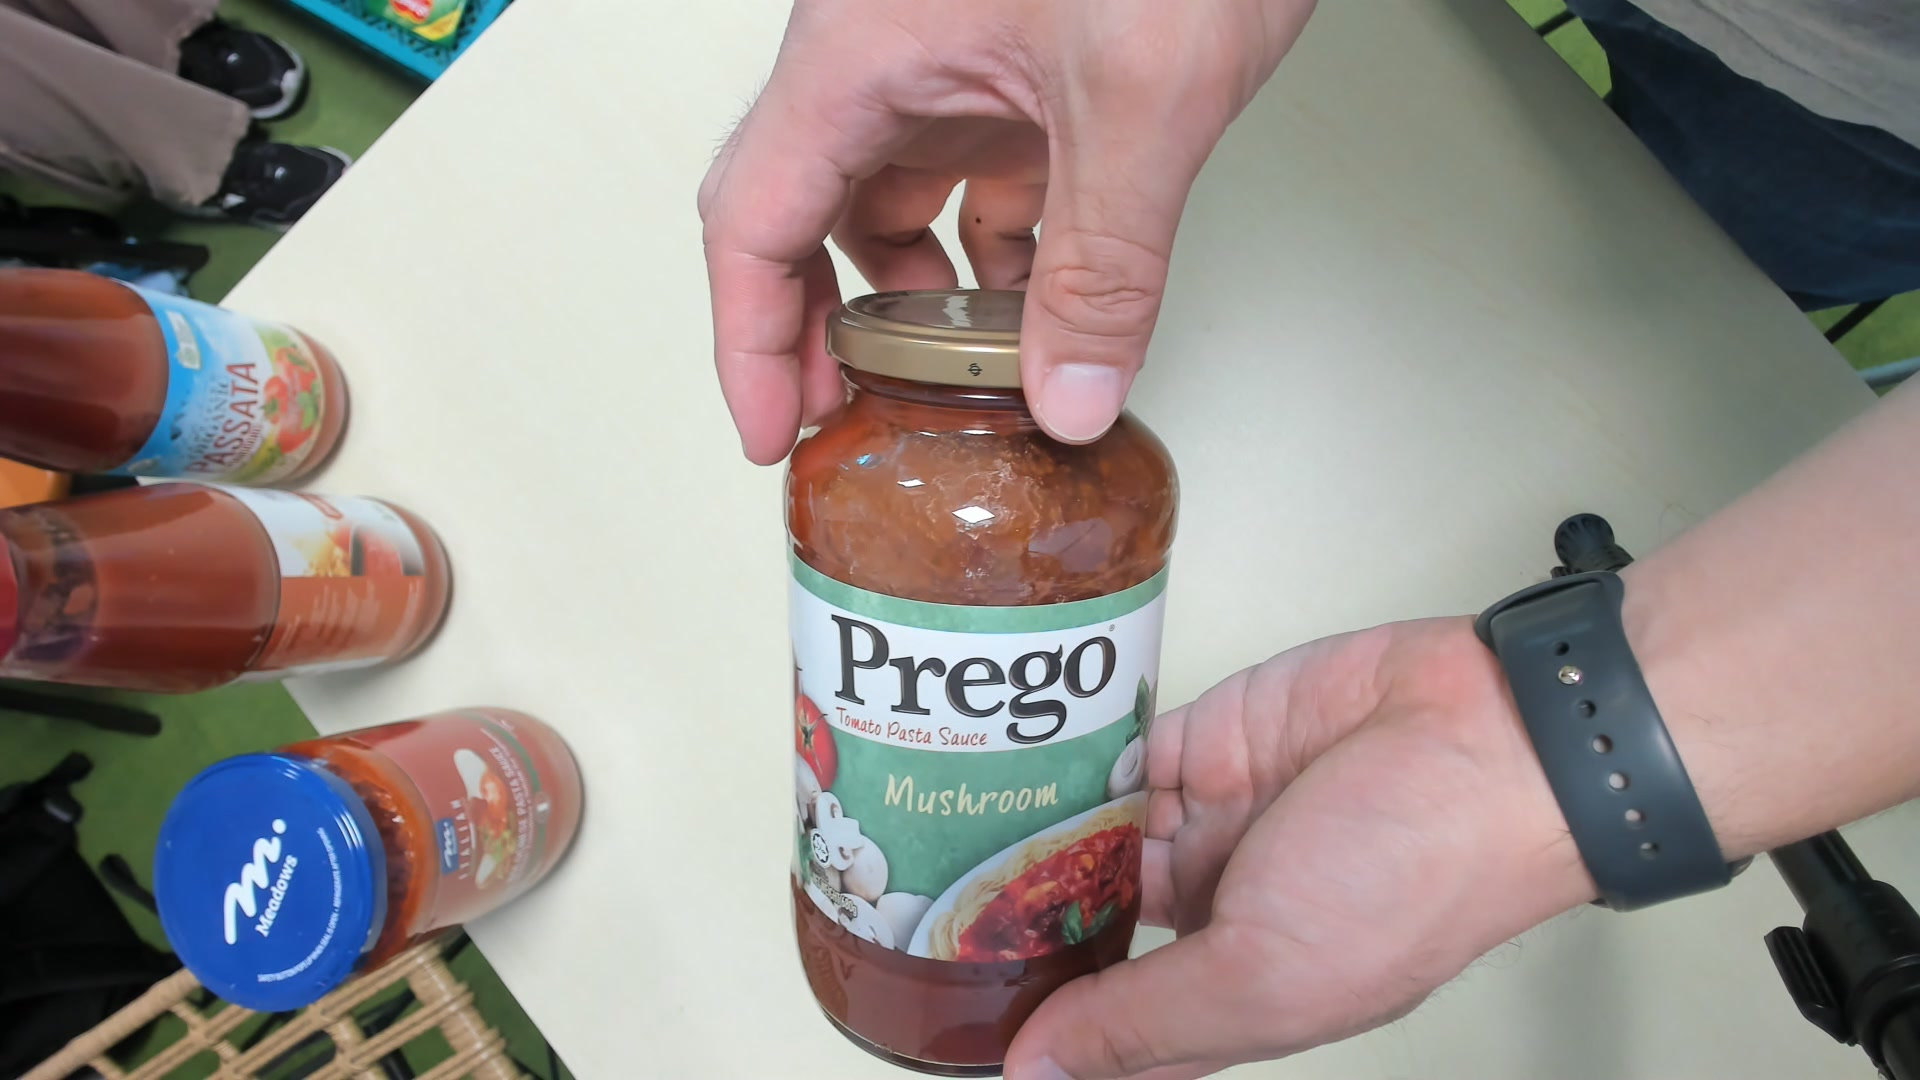PastaSauce_600-699g_Halal_NonHealthy: (785, 284, 1149, 1075)
